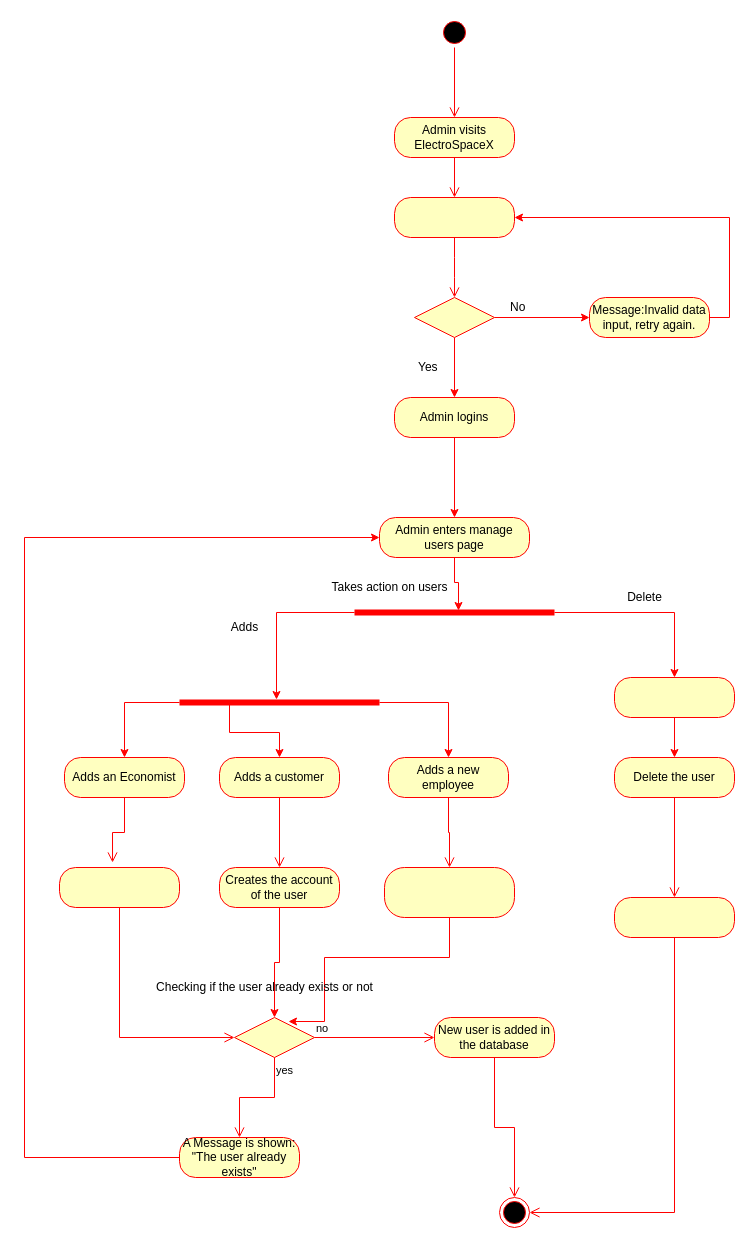
Some shapes in this 755 by 1245 pixel diagram are drawn without their labels. The shapes that lost their labels are listed below. From the top down, each one's box as (x1, y1, x2, y2) in pixels, then its label:
(394, 196, 514, 238): Admin enters it's credentials
(614, 676, 734, 718): Select a user which he wants to delete
(58, 866, 180, 908): Creates the account of the Economist
(384, 866, 514, 918): Adds only the wage, name and surname of the employee
(614, 896, 734, 938): User is deleted from the database
(234, 1016, 314, 1058): Condition
